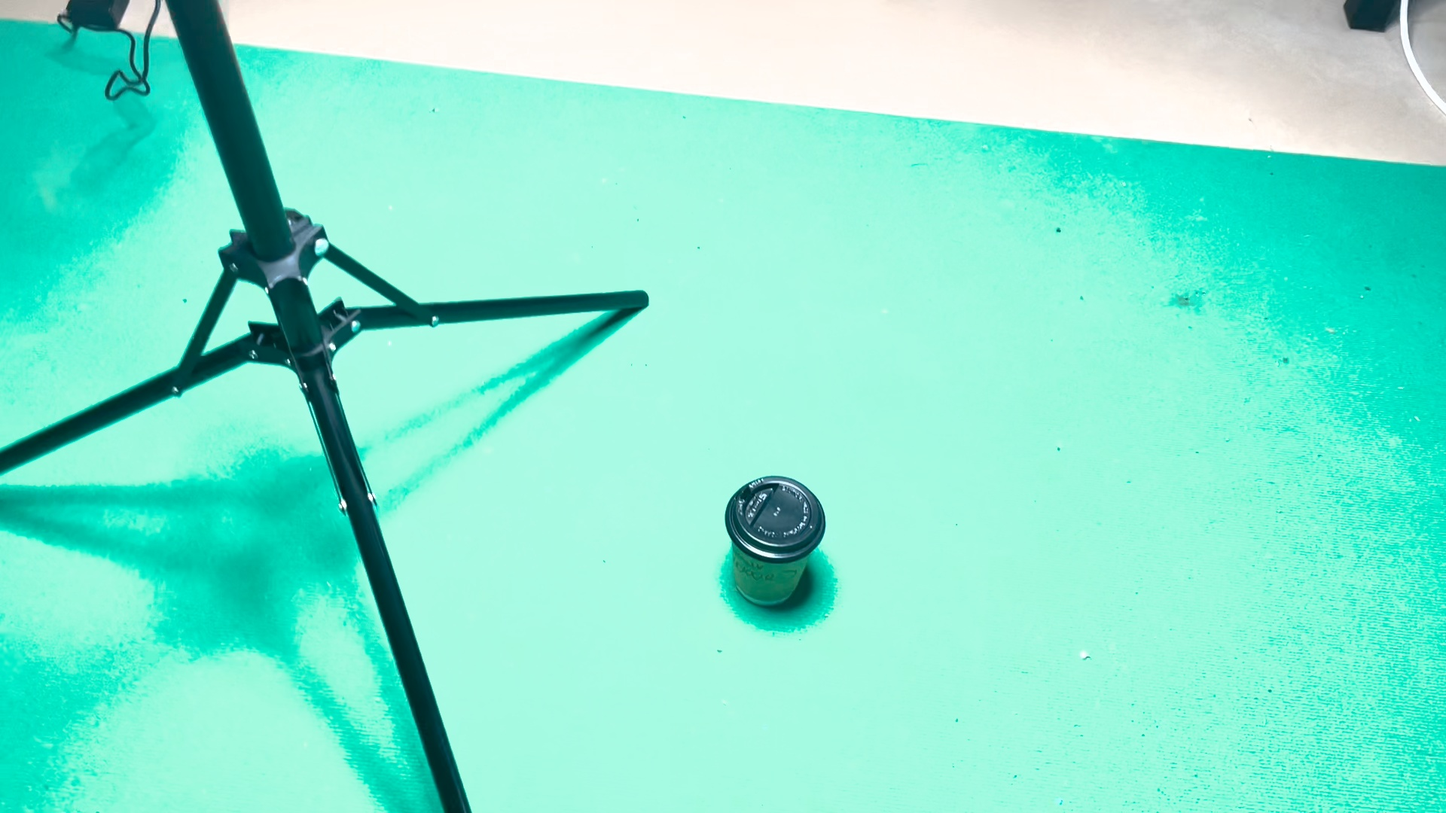cup: (751, 403, 840, 515)
